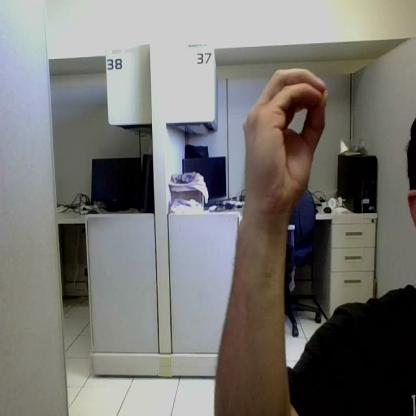O: (243, 68, 327, 206)
